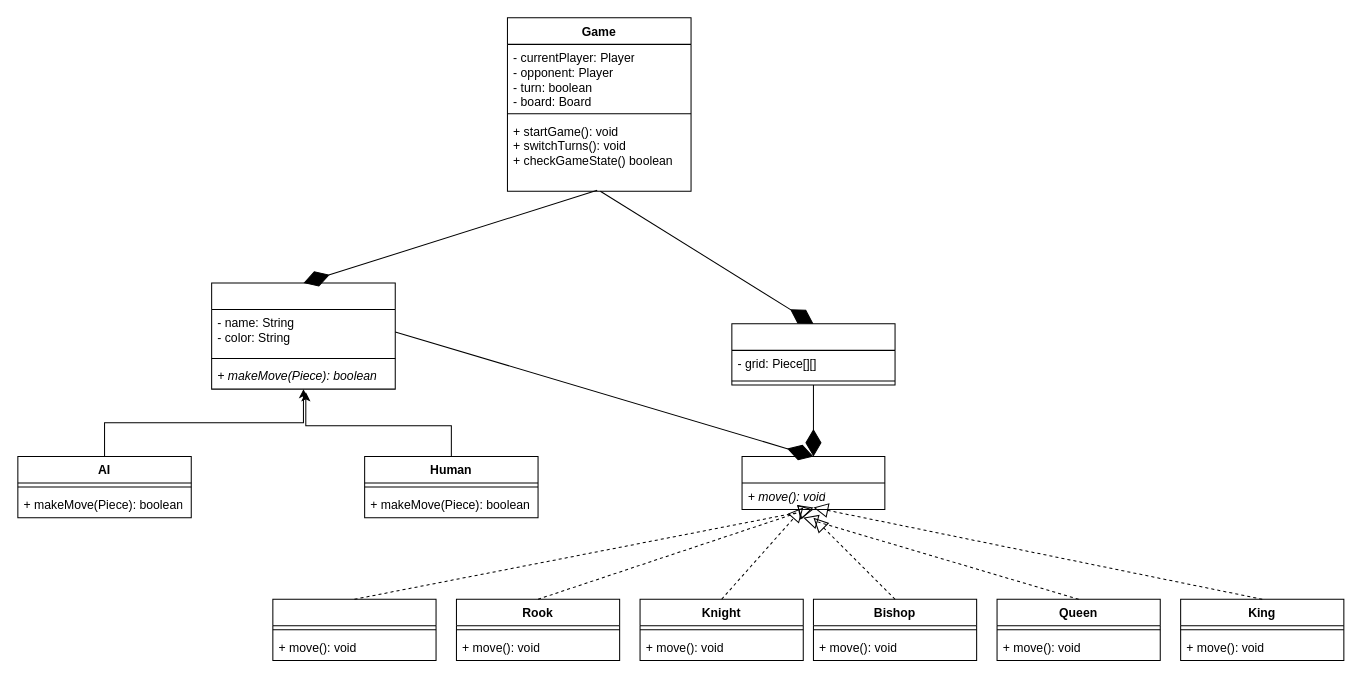
This 1362x681 diagram has some shape labels left out. The shapes that lost their labels are listed below. From the top down, each one's box as (x1, y1, x2, y2) in pixels, then its label:
(211, 282, 395, 389): Player
(731, 323, 895, 385): Board
(741, 455, 885, 509): Piece
(272, 598, 436, 660): Pawn
